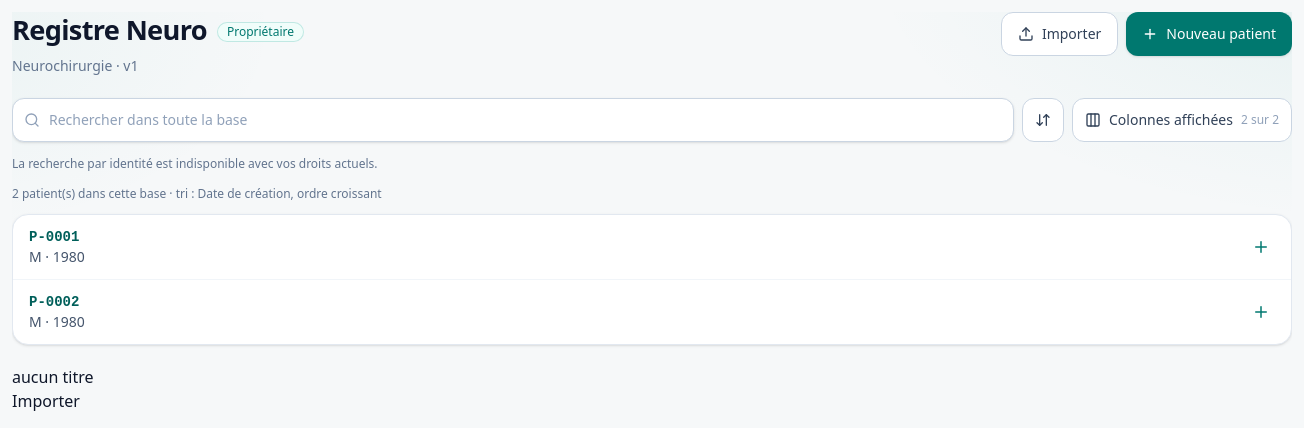
Test case: BaseHome — téléphone (audit UI mobile, lot 2) › sous 768 px, une carte par patient ouvre sa fiche, et + ouvre une rencontre
Click the button named "Ajouter une rencontre — P-0002".
click(1261, 312)  # box [1239,290,1283,334]
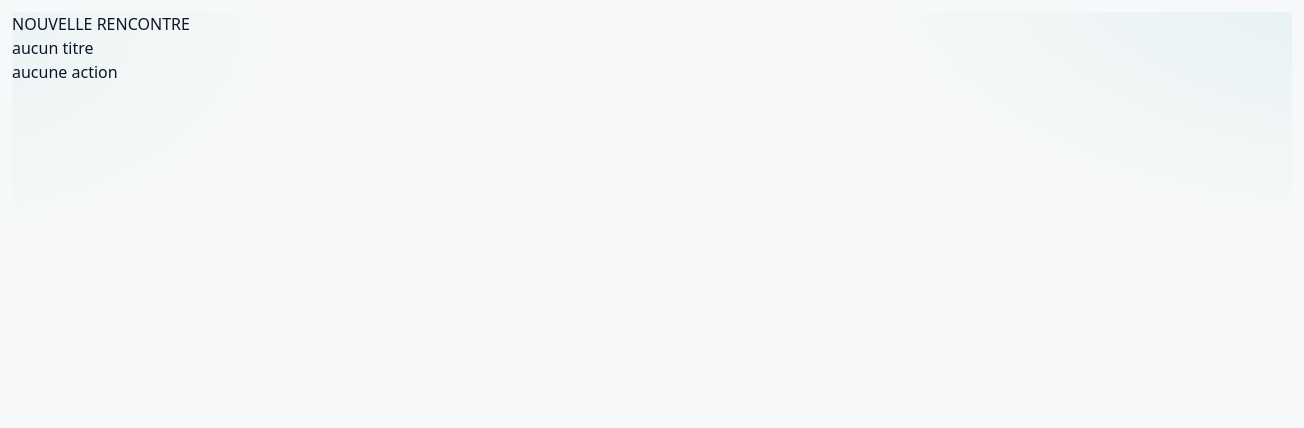
Expected: the text "NOUVELLE RENCONTRE" is shown, [12,13,190,35]
